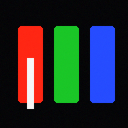4 line_v: (27, 58, 33, 108)
